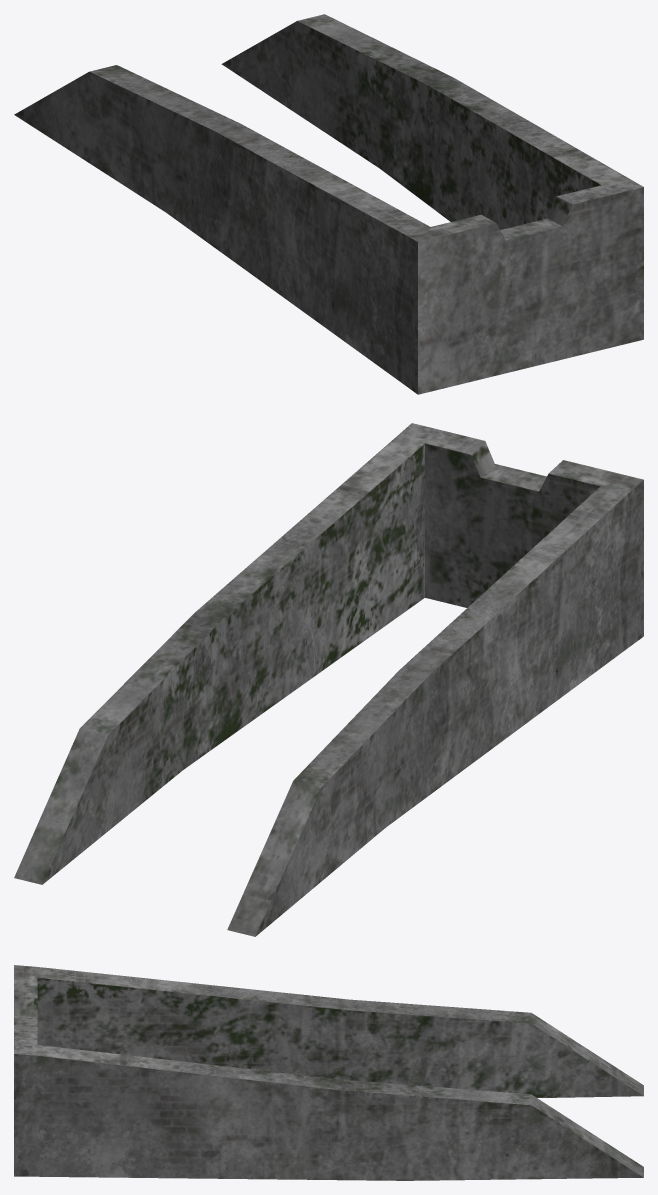
Rendered from bridge wall.fbx.
3 renders of one model, top to bottom at view 1: azimuth 30°, elevation 25°; view 2: azimuth 150°, elevation 25°; view 3: azimuth 270°, elevation 25°, orthographic. The views are drawn at different scales.
Visible parts, largest first — view 1: Cube; view 2: Cube; view 3: Cube.
Part boxes in pixels (x1=…): Cube: x1=14, y1=14, x2=643, y2=394; Cube: x1=14, y1=423, x2=643, y2=936; Cube: x1=14, y1=965, x2=643, y2=1180.
Bounding box in the file's own units: 1459 × 872 × 3969.
